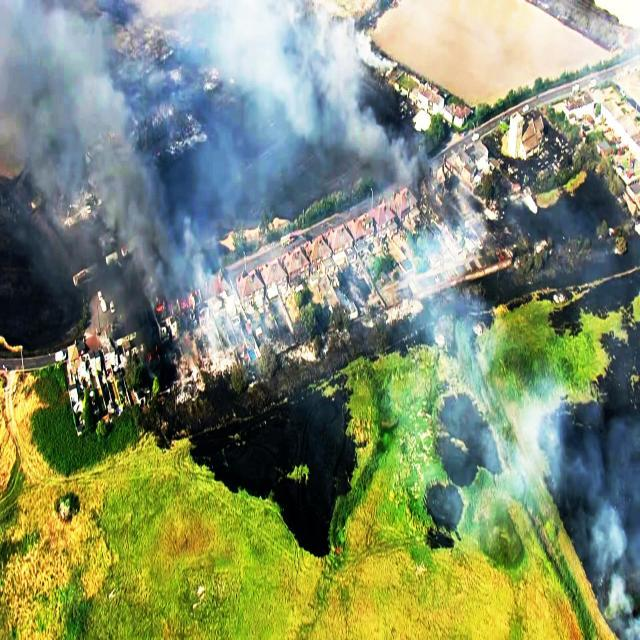Smoke: (158, 0, 352, 119), (35, 131, 165, 289), (0, 0, 82, 184)
